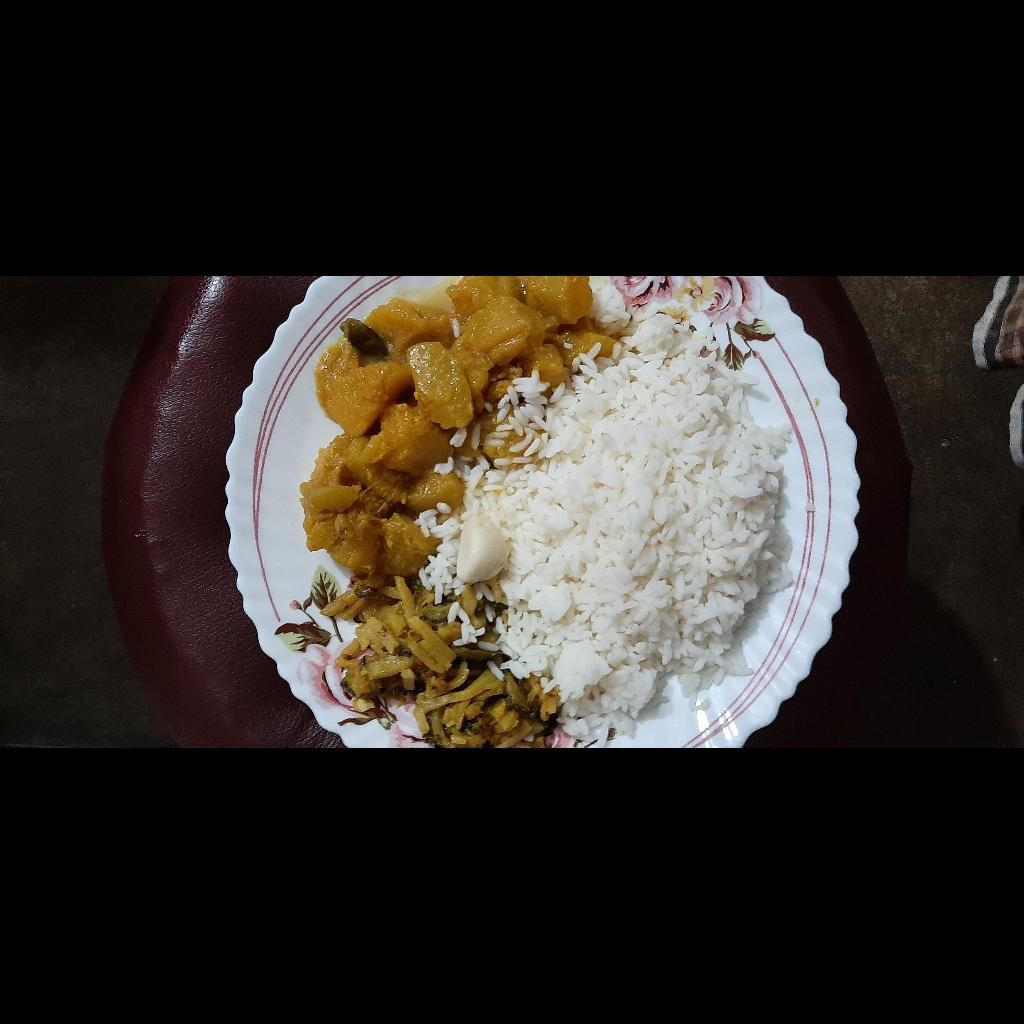korola-vaji: (468, 276, 589, 346)
kumra-vaji: (407, 448, 725, 748)
potato: (525, 287, 706, 449)
rice: (224, 276, 610, 748)
